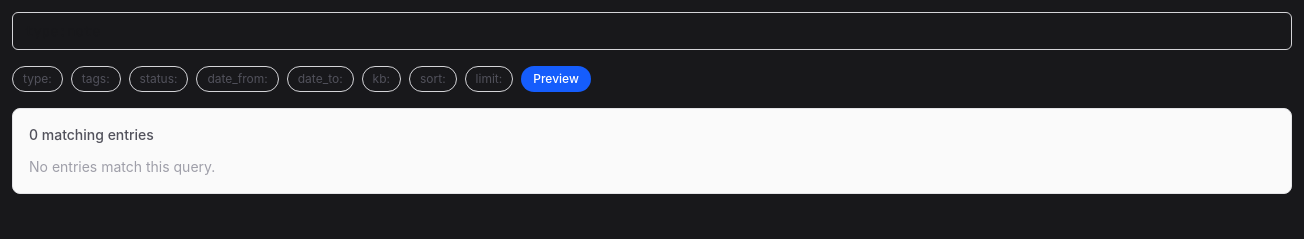
QueryBuilder › preview shows result count text
This screenshot has width=1304, height=239.
What coordinates should you click on to do the following:
click the button "Preview"
I would click on:
 (556, 79)
Its box is x1=521 y1=66 x2=591 y2=92.
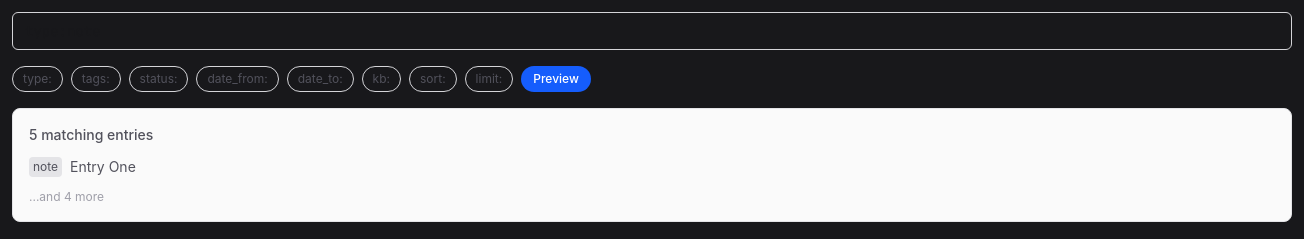
Result: the text "5 matching entries" is shown at x1=29 y1=125 x2=153 y2=145
